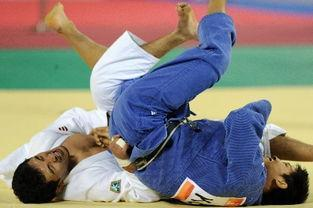Fall-Detected: (5, 3, 308, 202)
